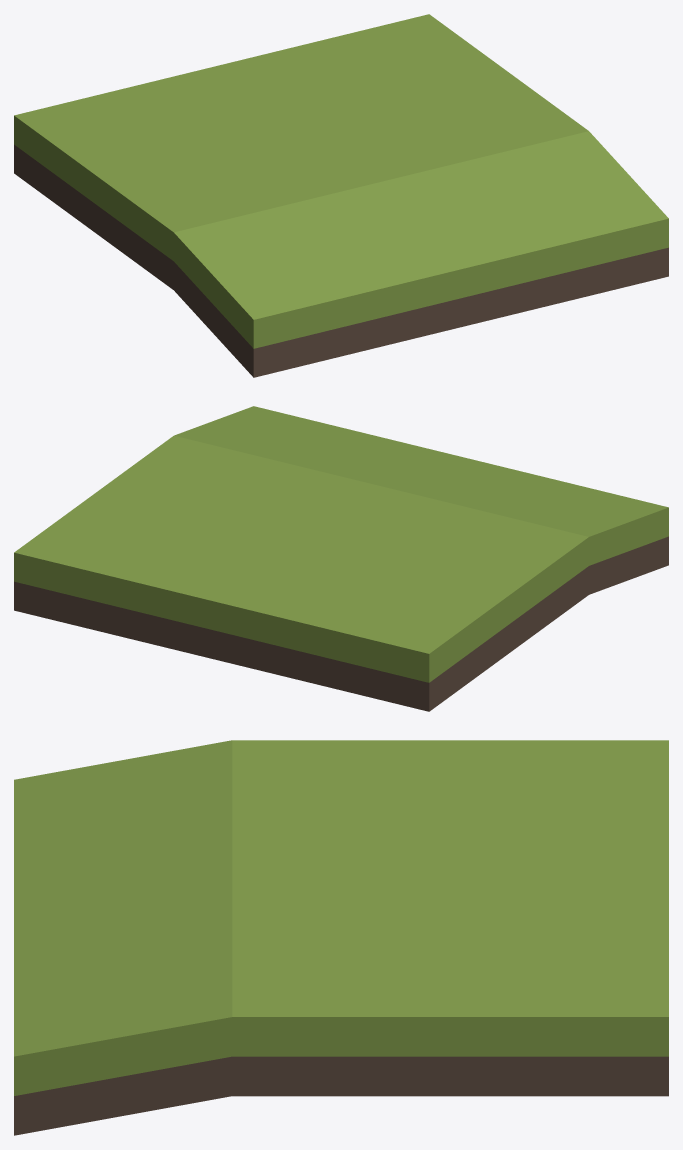
The model's file is grass-tile-hill-start_01.fbx.
3 renders of one model, top to bottom at view 1: azimuth 30°, elevation 25°; view 2: azimuth 150°, elevation 25°; view 3: azimuth 270°, elevation 25°, orthographic. The views are drawn at different scales.
Visible parts, largest first — view 1: grass-tile-hill-start_01; view 2: grass-tile-hill-start_01; view 3: grass-tile-hill-start_01.
Boxes of the visible parts, x1,y1,x2,y2 form: grass-tile-hill-start_01: (14,14,668,377); grass-tile-hill-start_01: (14,406,668,711); grass-tile-hill-start_01: (14,740,668,1135).
Size of the model in its own units: 3000 by 600 by 3000.
